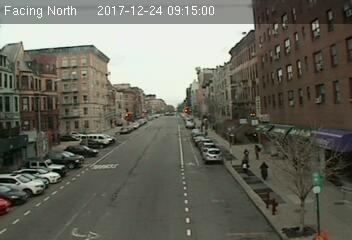car: (203, 146, 222, 163)
pedestrian: (260, 160, 268, 183)
